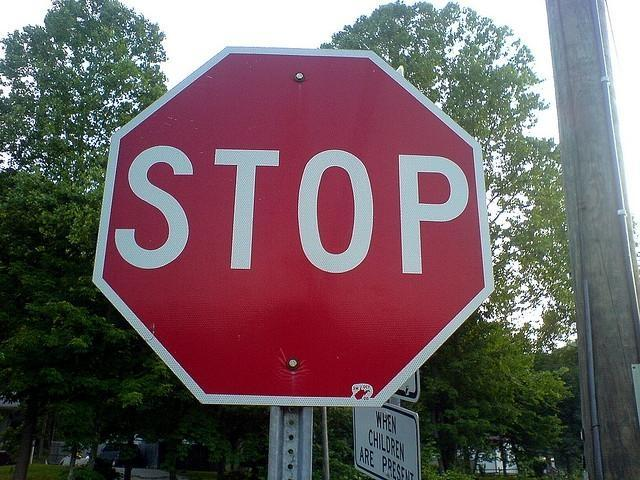car: (98, 442, 142, 468)
